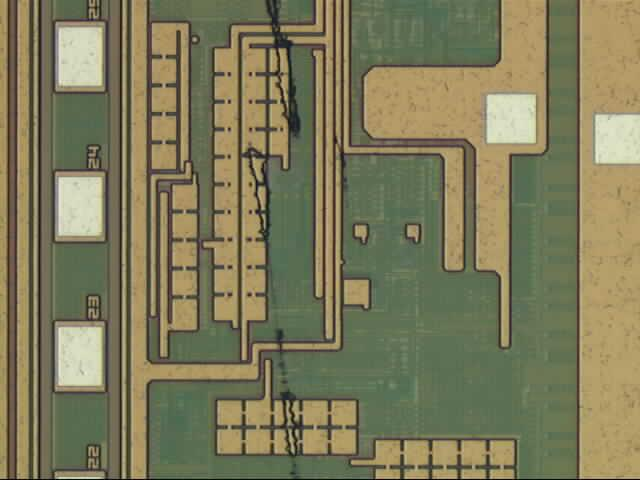SCRATCH: (243, 1, 361, 480)
